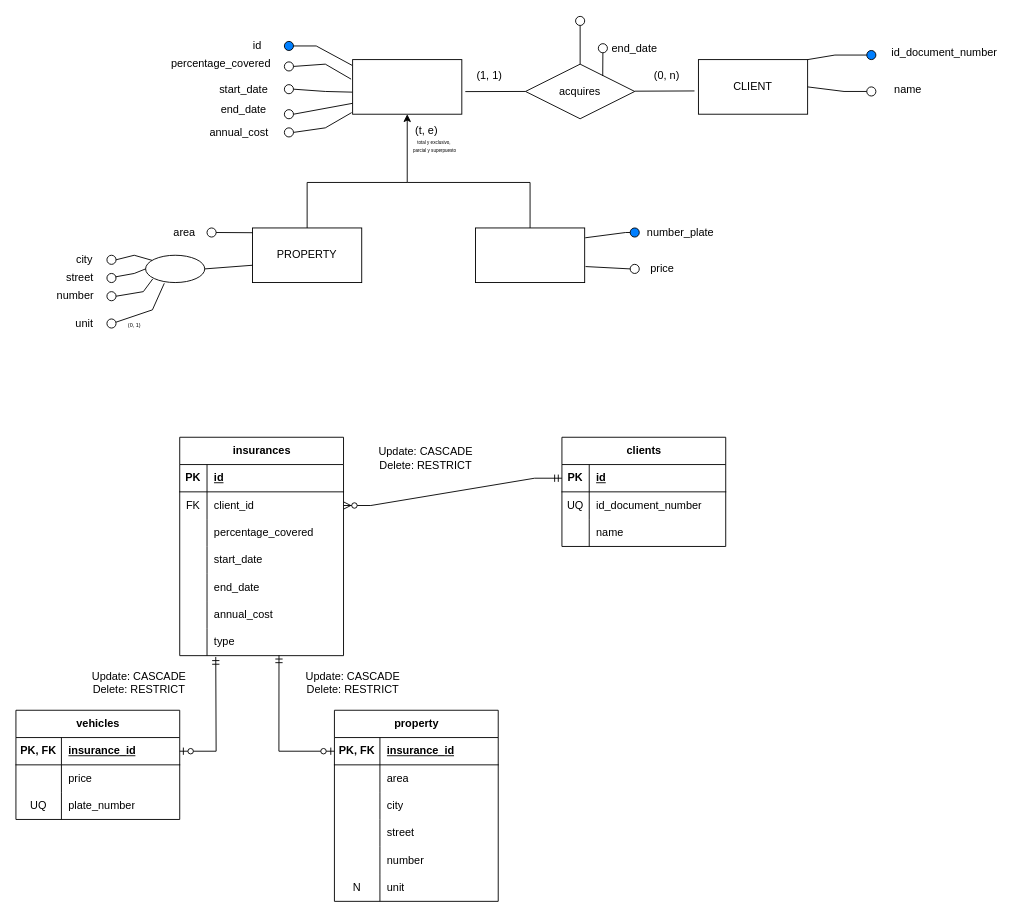
The diagram is 1028 pixels wide and 917 high, and some of its shapes have lost their labels. Each missing label, with the centre of its shape:
"address" belongs at (x=175, y=268).
"INSURANCE" belongs at (x=407, y=86).
"VEHICLE" belongs at (x=530, y=255).
